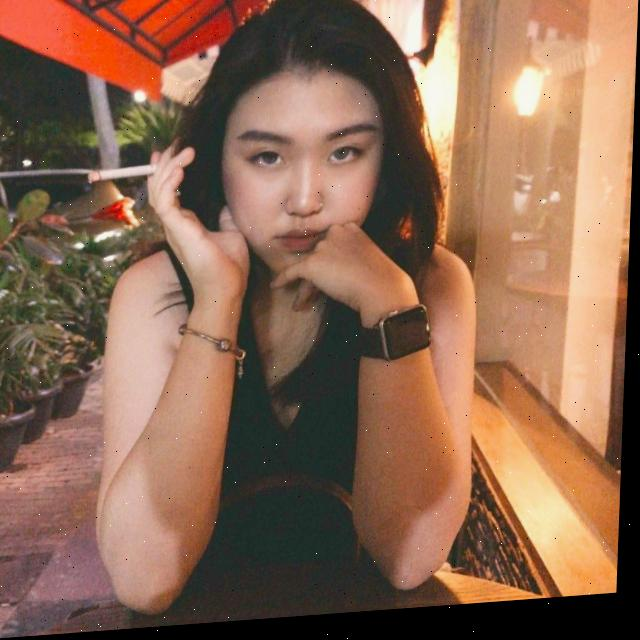cigarette: (88, 166, 159, 185)
